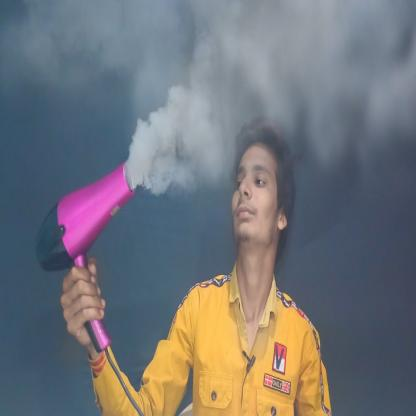smoke: (1, 0, 414, 197)
